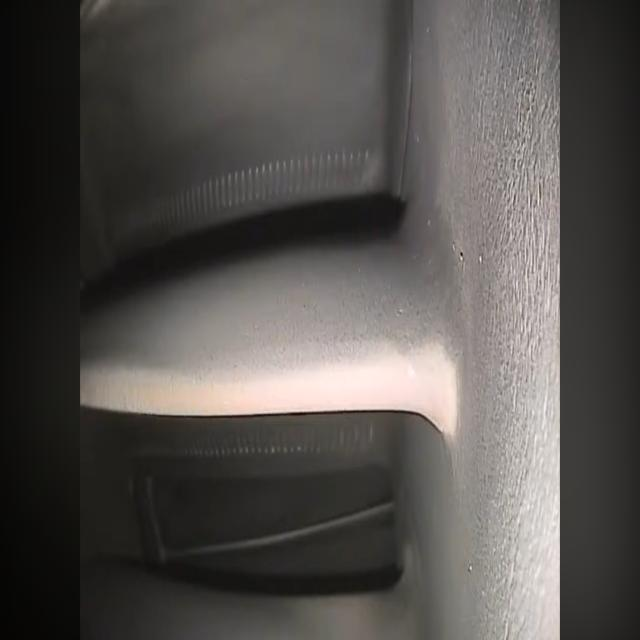turbine_blade: (78, 1, 414, 279), (81, 222, 460, 443)
